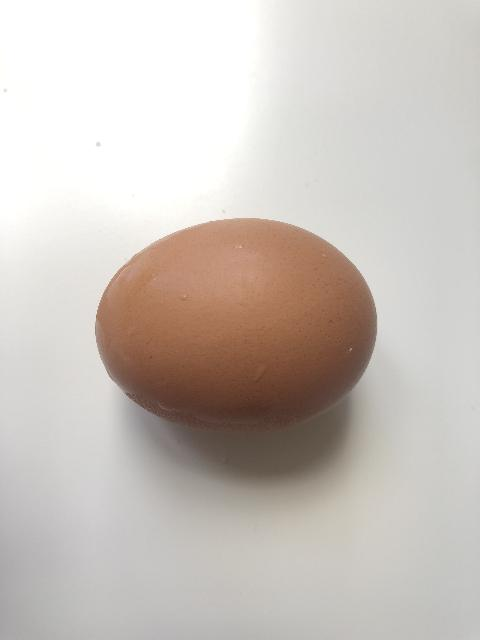Sano: (94, 216, 378, 434)
